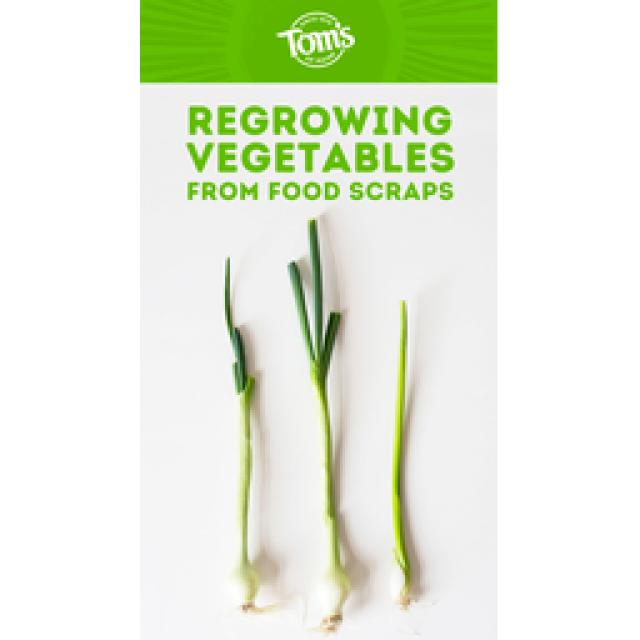food_waste: (288, 218, 348, 628), (225, 258, 255, 608), (392, 300, 403, 571)
